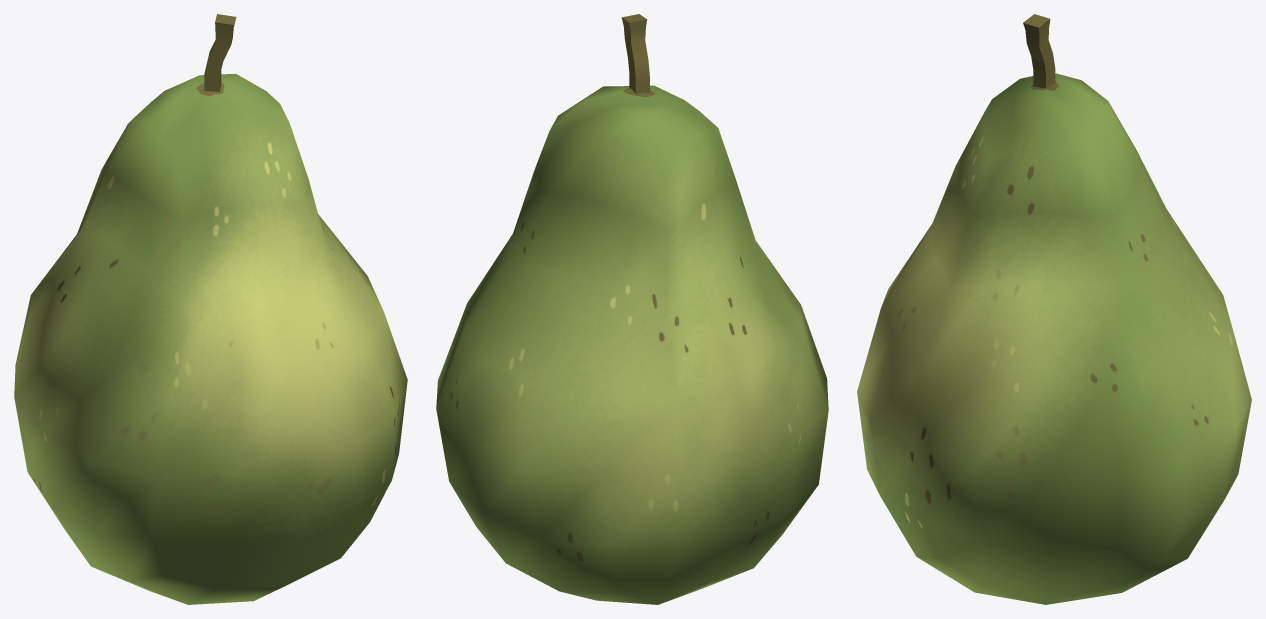
File: Pear.fbx
3 renders of one model, left to right at view 1: azimuth 30°, elevation 25°; view 2: azimuth 150°, elevation 25°; view 3: azimuth 270°, elevation 25°, orthographic.
Parts seen in each view (by area): view 1: Pear; view 2: Pear; view 3: Pear.
Boxes of the visible parts, <box> form: Pear: <box>14,14,407,604</box>; Pear: <box>436,14,828,604</box>; Pear: <box>857,14,1251,604</box>.
Size of the model in its own units: 6.41 by 10.2 by 6.43.
